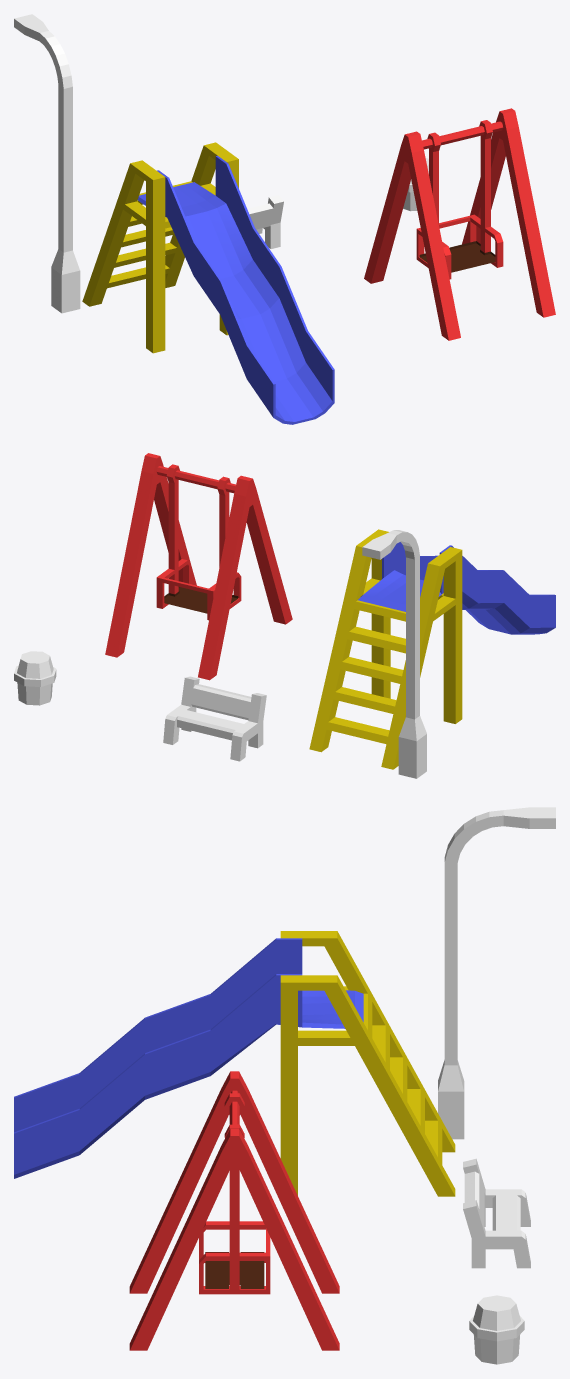
File: combo-childrens-play-area.glb
3 renders of one model, top to bottom at view 1: azimuth 30°, elevation 25°; view 2: azimuth 150°, elevation 25°; view 3: azimuth 270°, elevation 25°, orthographic. The views are drawn at different scales.
Visible parts, largest first — view 1: 00_asset-023, 01_asset-024, 04_asset-005, 02_asset-007; view 2: 00_asset-023, 01_asset-024, 04_asset-005, 02_asset-007, 03_asset-051; view 3: 00_asset-023, 01_asset-024, 04_asset-005, 02_asset-007, 03_asset-051.
Part boxes in pixels (x1,y1,x2,y2): 00_asset-023: (82, 142, 334, 424); 01_asset-024: (364, 108, 555, 340); 04_asset-005: (14, 14, 80, 313); 02_asset-007: (247, 195, 283, 248); 00_asset-023: (309, 529, 555, 769); 01_asset-024: (105, 453, 292, 680); 04_asset-005: (362, 530, 426, 778); 02_asset-007: (163, 676, 266, 761); 03_asset-051: (14, 651, 56, 705); 00_asset-023: (14, 931, 455, 1196); 01_asset-024: (129, 1071, 339, 1350); 04_asset-005: (438, 807, 555, 1139); 02_asset-007: (463, 1158, 530, 1268); 03_asset-051: (469, 1295, 524, 1364).
Size of the model in its own units: 6.47 by 4.05 by 6.2.
